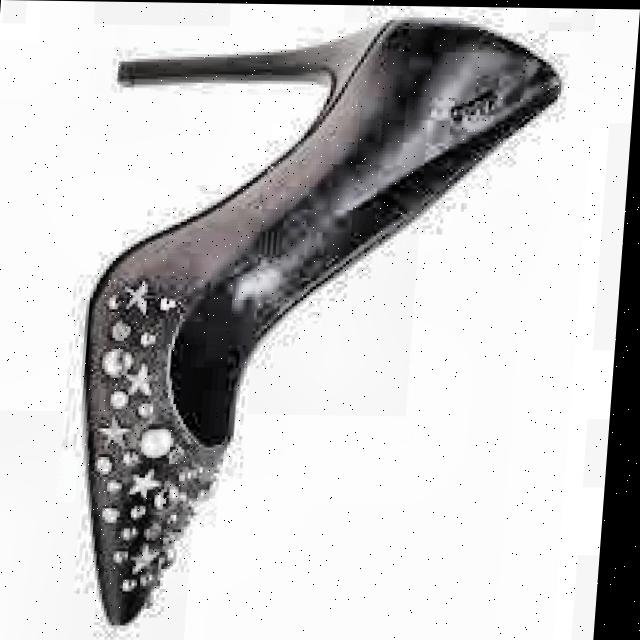shoes: (13, 1, 583, 637)
